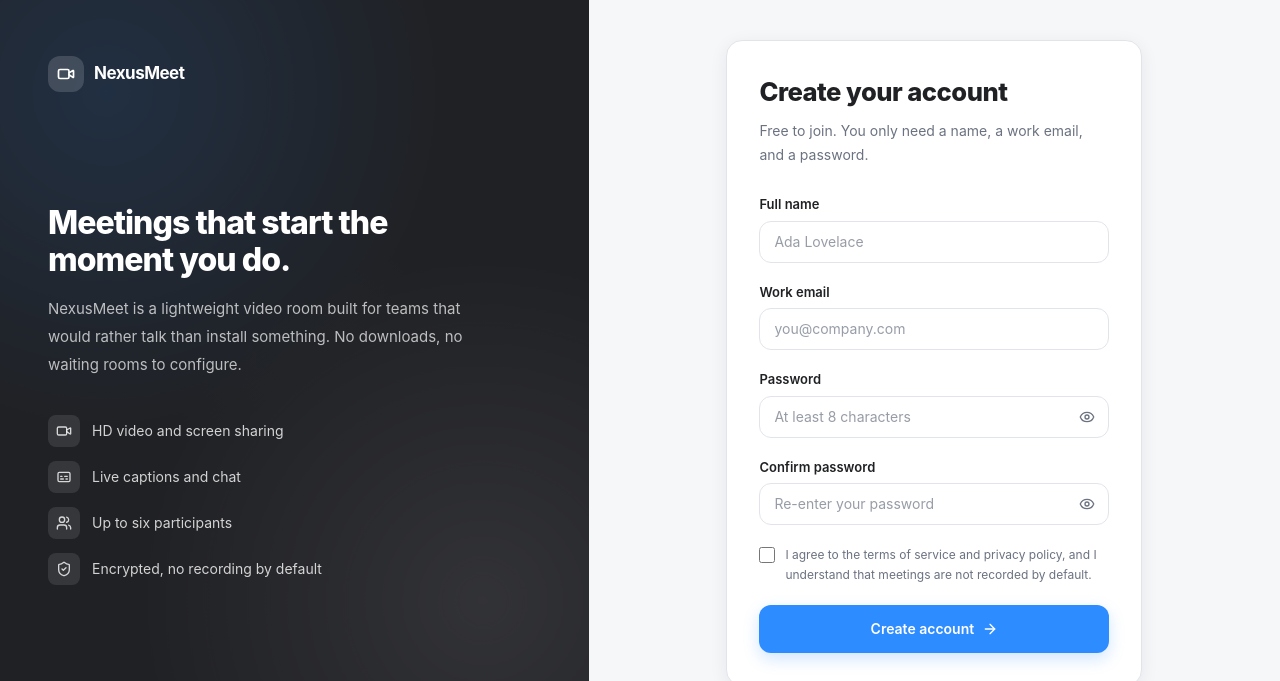
SignUpForm › shows a live strength meter once a password is typed
The width and height of the screenshot is (1280, 681).
Step 1. Type "abc" into the password field labelled "Password" → (934, 417), box [759,396,1109,438]
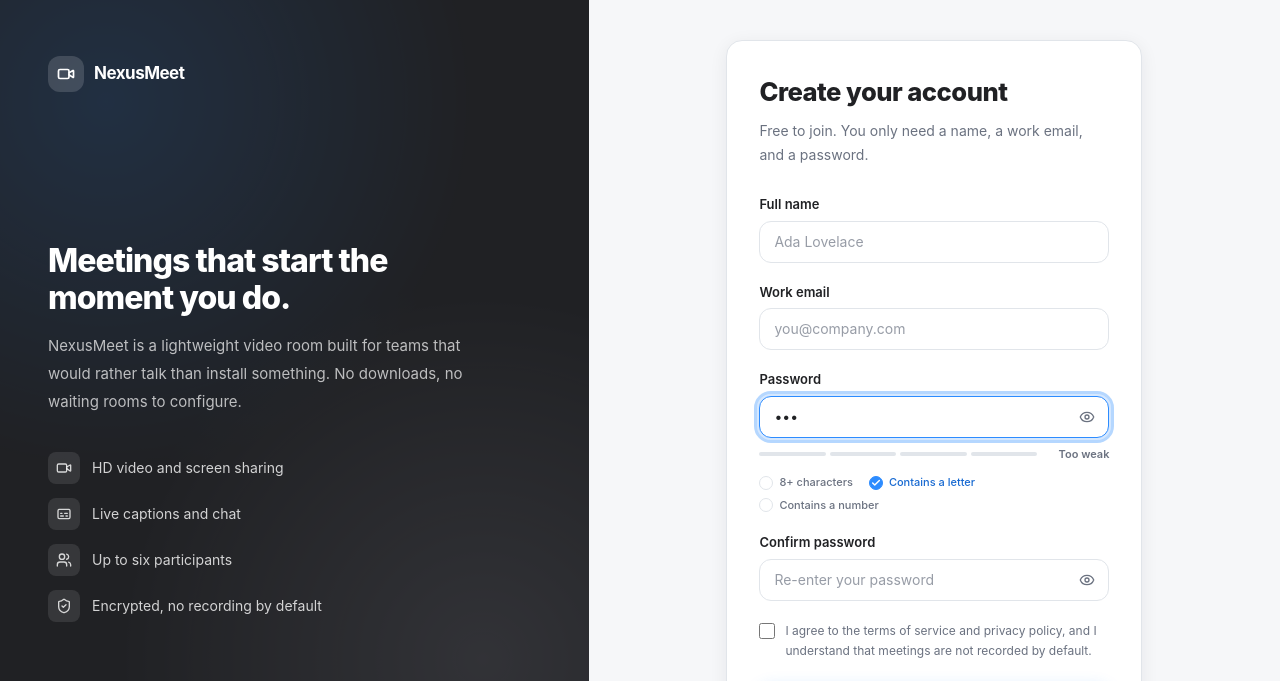
Expected: the text "Too weak" is shown, [1059,447,1109,461]
Step 2. Type "Str0ng-Passphrase-2024" into the password field labelled "Password" → (934, 417), box [759,396,1109,438]
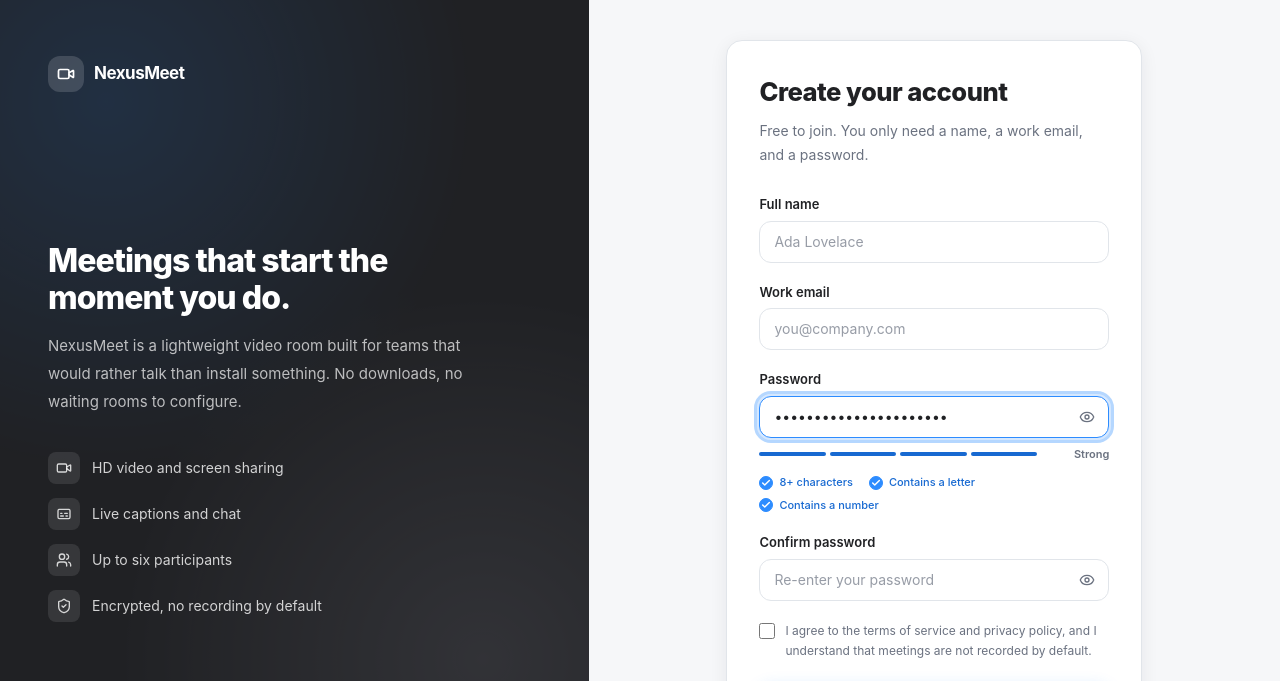
Expected: the text "Strong" is shown, [1074,447,1109,461]
